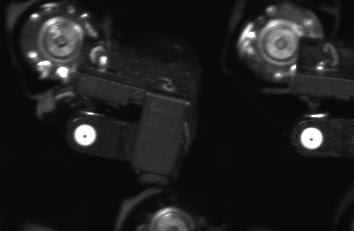fiber: (70, 121, 104, 151), (297, 123, 327, 154)
